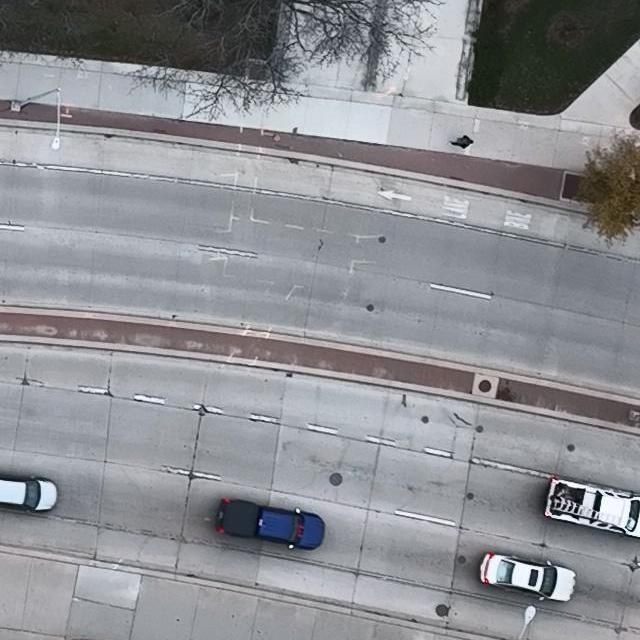car: (544, 478, 640, 537), (218, 499, 325, 551), (480, 551, 577, 602), (0, 475, 58, 512)
